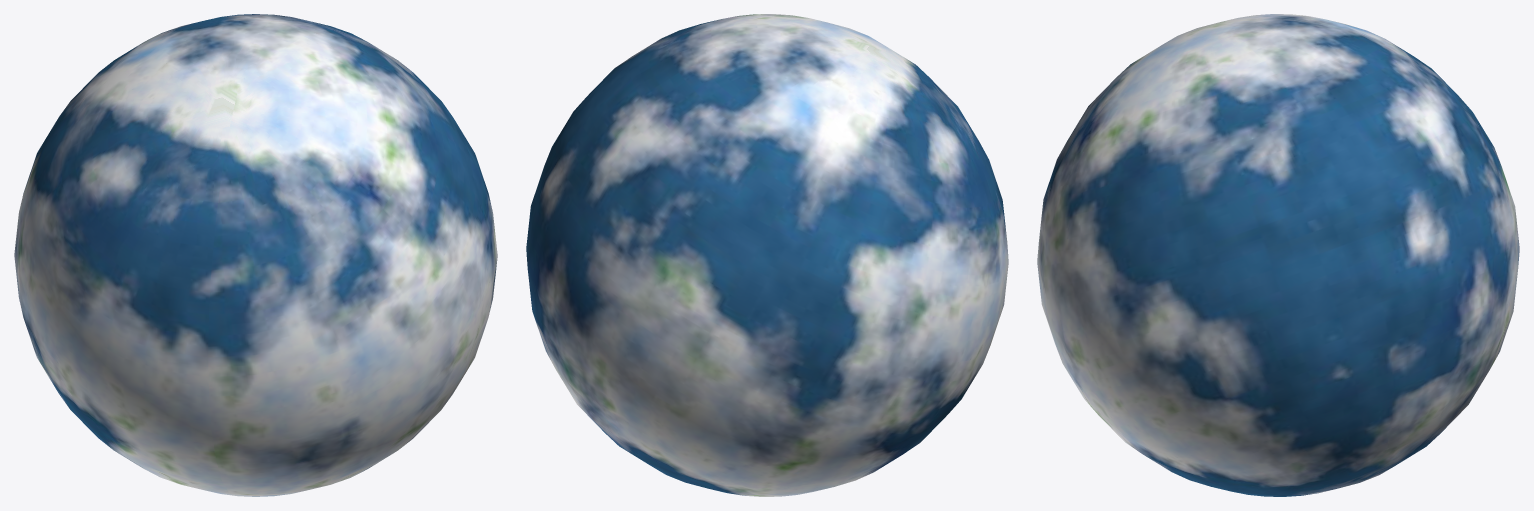
File: taris.glb
3 views of the same model, side by side, from view 1: azimuth 30°, elevation 25°; view 2: azimuth 150°, elevation 25°; view 3: azimuth 270°, elevation 25° (orthographic).
Visible parts, largest first — view 1: Sphere.007_0.001; view 2: Sphere.007_0.001; view 3: Sphere.007_0.001.
Boxes of the visible parts, box(x1,y1,x2,y2) form: Sphere.007_0.001: box(14, 14, 497, 496); Sphere.007_0.001: box(526, 14, 1008, 496); Sphere.007_0.001: box(1037, 14, 1519, 496).
Size of the model in its own units: 0.0834 by 0.0836 by 0.0834.
Materials: 1 (1 with a texture image).
